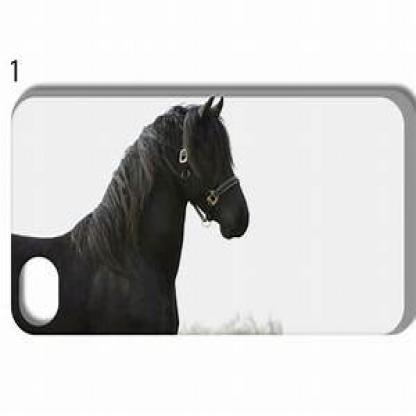horse: (62, 98, 251, 338)
